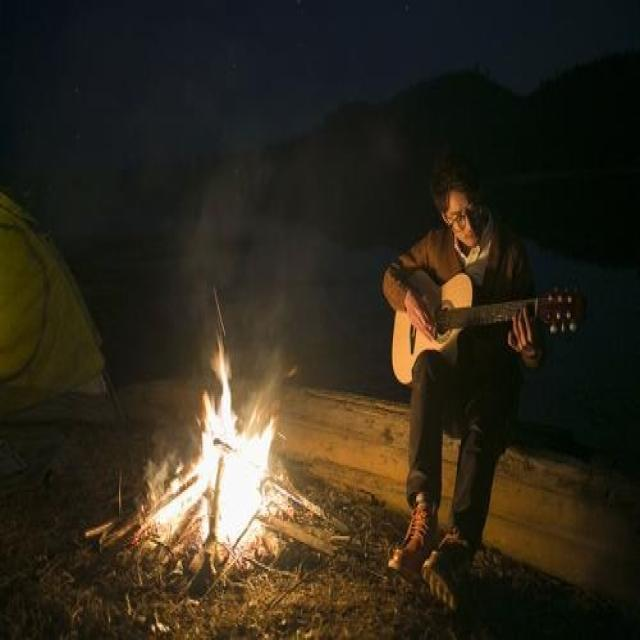Fire: (107, 334, 296, 559)
Smoke: (43, 2, 384, 330)
